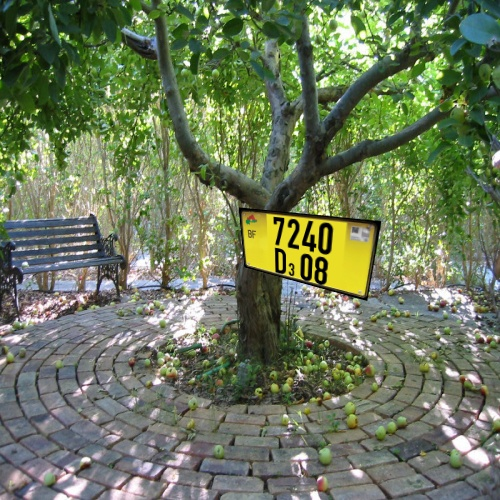plate: (225, 198, 411, 323)
